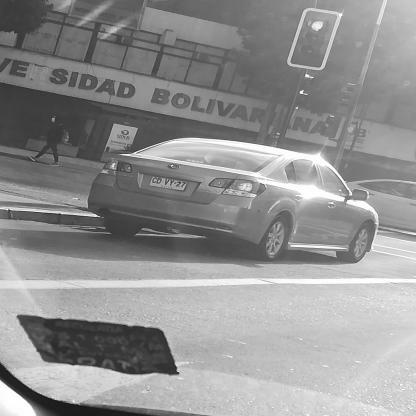Patente: (148, 175, 189, 194)
